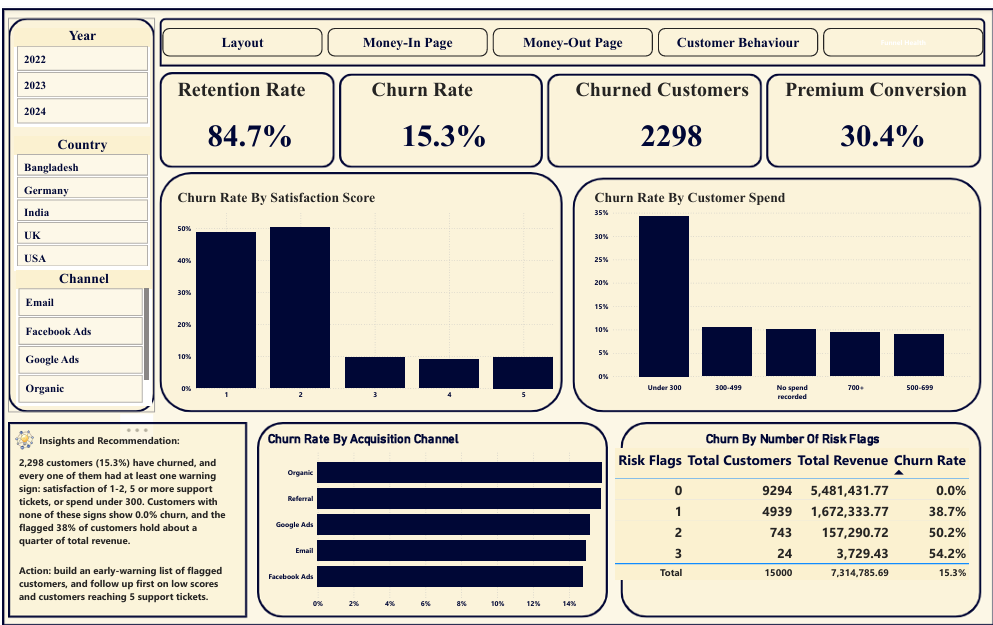

Layout of this report page (visuals, bound fields, positions):
{"tool":"powerbi","page":{"name":"Funnel Health","canvas":[1920,1200],"ordinal":4},"visuals":[{"type":"pageNavigator","box":[310.2,42.4,1590.6,55.7],"z":0},{"type":"advancedSlicerVisual","title":"Year","fields":{"Values":["sales_marketing_clean.signup_month.Variation.Date Hierarchy.Year"]},"box":[23.9,42.4,262.5,190.9],"z":1000},{"type":"advancedSlicerVisual","title":"Country","fields":{"Values":["sales_marketing_clean.country"]},"box":[23.9,251.8,262.5,259.8],"z":2000},{"type":"advancedSlicerVisual","title":"Channel","fields":{"Values":["sales_marketing_clean.acquisition_channel"]},"box":[26.5,511.6,262.5,262.5],"z":3000},{"type":"card","title":"Churn Rate","fields":{"Values":["sales_marketing_clean.Churn Rate"]},"box":[710.5,137.9,291.6,169.7],"z":4000},{"type":"card","title":"Retention Rate","fields":{"Values":["sales_marketing_clean.Retention Rate"]},"box":[334,137.9,291.6,169.7],"z":5000},{"type":"card","title":"Churned Customers","fields":{"Values":["sales_marketing_clean.Churned Customers"]},"box":[1105.5,137.9,381.7,169.7],"z":6000},{"type":"card","title":"Premium Conversion","fields":{"Values":["sales_marketing_clean.Premium Conversion"]},"box":[1511.1,137.9,389.7,169.7],"z":7000},{"type":"clusteredColumnChart","title":"Churn Rate By Satisfaction Score","fields":{"Category":["sales_marketing_clean.satisfaction_score"],"Y":["sales_marketing_clean.Churn Rate"]},"box":[334.2,355.4,738.2,416.2],"z":8000},{"type":"clusteredColumnChart","title":"Churn Rate By Customer Spend","fields":{"Y":["sales_marketing_clean.Churn Rate"],"Category":["sales_marketing_clean.Spend Band"]},"box":[1142.3,355.4,738.2,416.2],"z":9000},{"type":"clusteredBarChart","title":"Churn Rate By Acquisition Channel","fields":{"Y":["sales_marketing_clean.Churn Rate"],"Category":["sales_marketing_clean.acquisition_channel"]},"box":[509,824.5,673.4,352.6],"z":10000},{"type":"tableEx","title":"Churn By Number Of Risk Flags","fields":{"Values":["sales_marketing_clean.Risk Flags","sales_marketing_clean.Total Customers","sales_marketing_clean.Total Revenue","sales_marketing_clean.Churn Rate"]},"box":[1182.4,824.5,697.2,336.7],"z":11000},{"type":"textbox","box":[26.5,824.5,424.2,352.6],"z":12000},{"type":"image","box":[13.3,816.5,58.3,47.7],"z":13000}]}

Visuals, with their boxes in screenshot pixels (x1, y1, x2, y2), scaled from the page's 1920x1200 canvas onto the 993x625 screenshot:
pageNavigator: <region>160, 22, 983, 51</region>
"Year" advancedSlicerVisual: <region>12, 22, 148, 122</region>
"Country" advancedSlicerVisual: <region>12, 131, 148, 266</region>
"Channel" advancedSlicerVisual: <region>14, 266, 149, 403</region>
"Churn Rate" card: <region>367, 72, 518, 160</region>
"Retention Rate" card: <region>173, 72, 324, 160</region>
"Churned Customers" card: <region>572, 72, 769, 160</region>
"Premium Conversion" card: <region>782, 72, 983, 160</region>
"Churn Rate By Satisfaction Score" clusteredColumnChart: <region>173, 185, 555, 402</region>
"Churn Rate By Customer Spend" clusteredColumnChart: <region>591, 185, 973, 402</region>
"Churn Rate By Acquisition Channel" clusteredBarChart: <region>263, 429, 612, 613</region>
"Churn By Number Of Risk Flags" tableEx: <region>612, 429, 972, 605</region>
textbox: <region>14, 429, 233, 613</region>
image: <region>7, 425, 37, 450</region>
